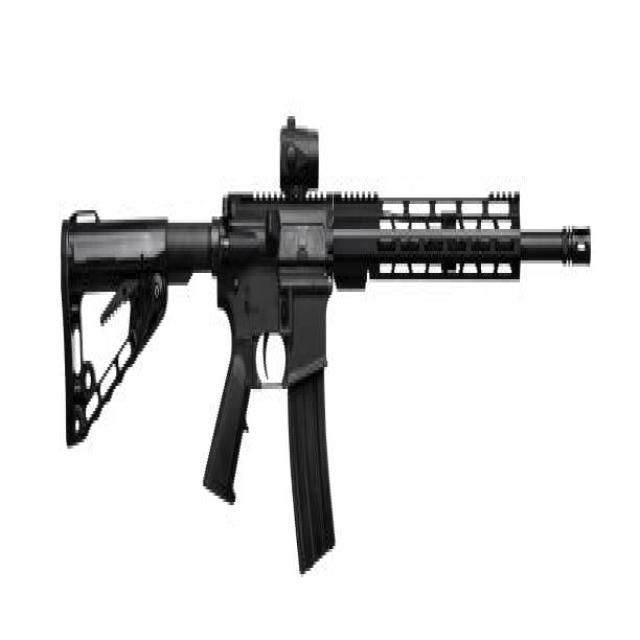rifle: (56, 105, 601, 587)
